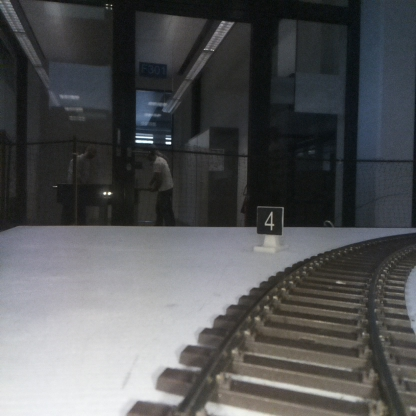black-stop-4: (257, 207, 283, 251)
